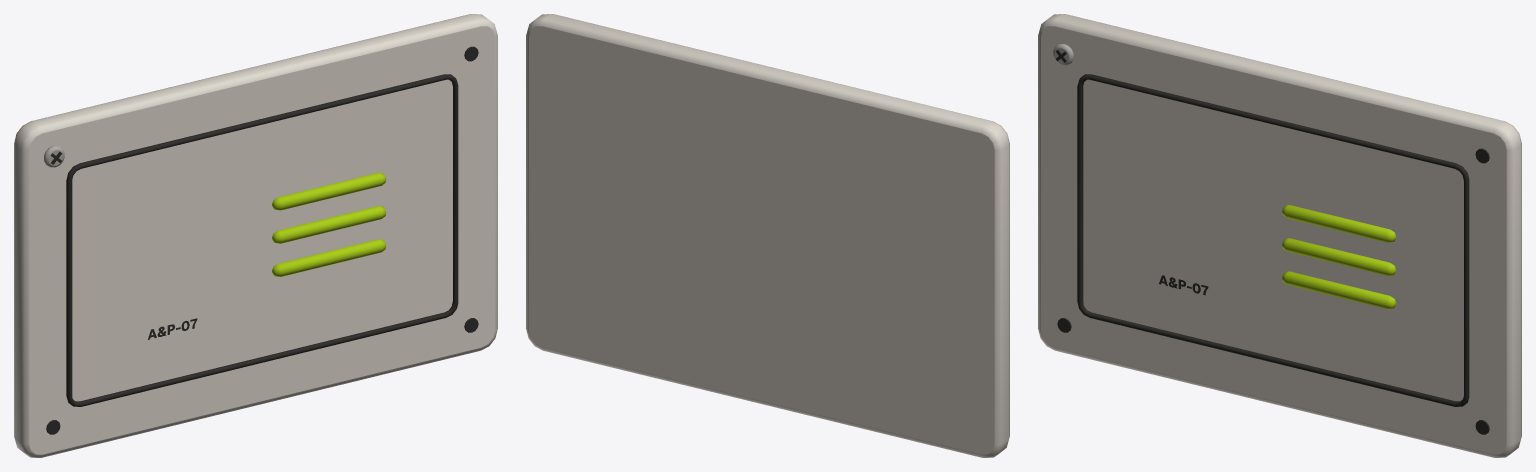
The model's file is wall-panel.glb.
The picture shows the model from 3 angles, left to right: view 1: azimuth 30°, elevation 25°; view 2: azimuth 150°, elevation 25°; view 3: azimuth 330°, elevation 25°; orthographic projection.
Parts seen in each view (by area): view 1: wall-panel-panel; view 2: wall-panel-panel; view 3: wall-panel-panel.
Boxes of the visible parts, box(x1,y1,x2,y2) form: wall-panel-panel: box(14, 14, 497, 457); wall-panel-panel: box(526, 14, 1009, 457); wall-panel-panel: box(1038, 14, 1521, 457).
Size of the model in its own units: 0.9 by 0.6 by 0.0539.
